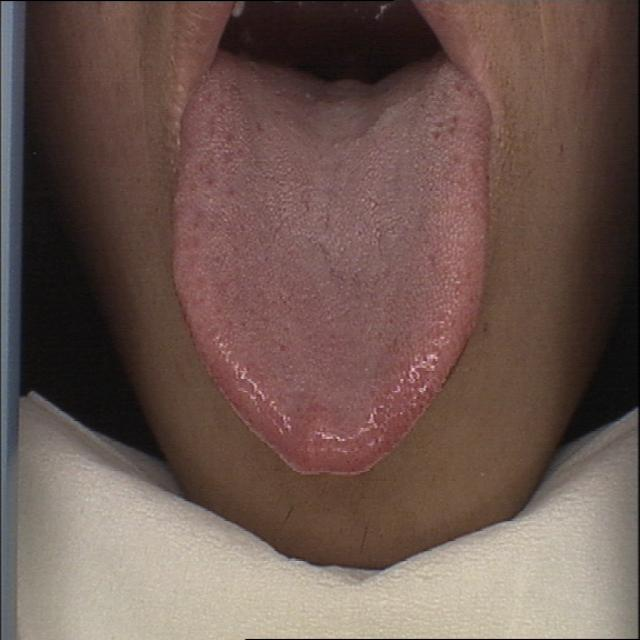tongue: (165, 46, 496, 485)
